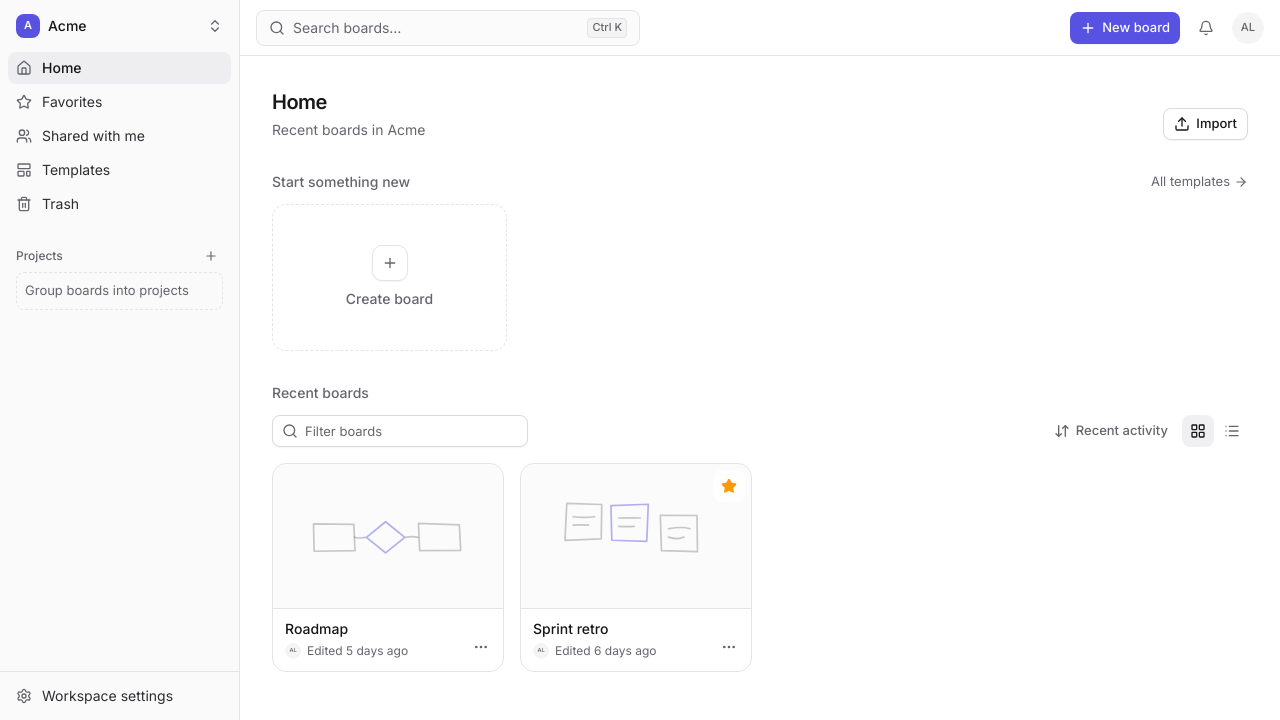
Scenario: dashboard board list › moves a board to the trash (DELETE /boards/:id) and duplicates boards
Step 1. Click the button with test id "board-card-menu" → (729, 647), box 713,631 -> 745,663
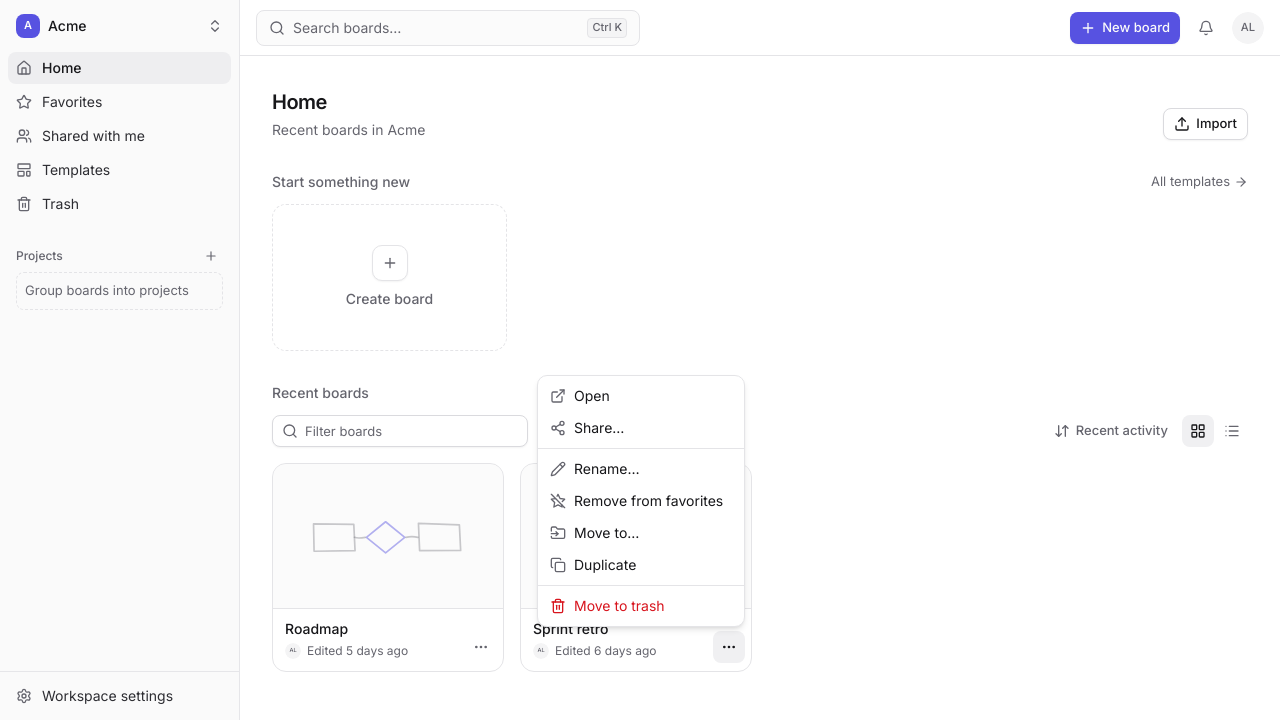
Step 2. Click the menu item with test id "board-menu-duplicate" → (593, 564), box 550,556 -> 636,573
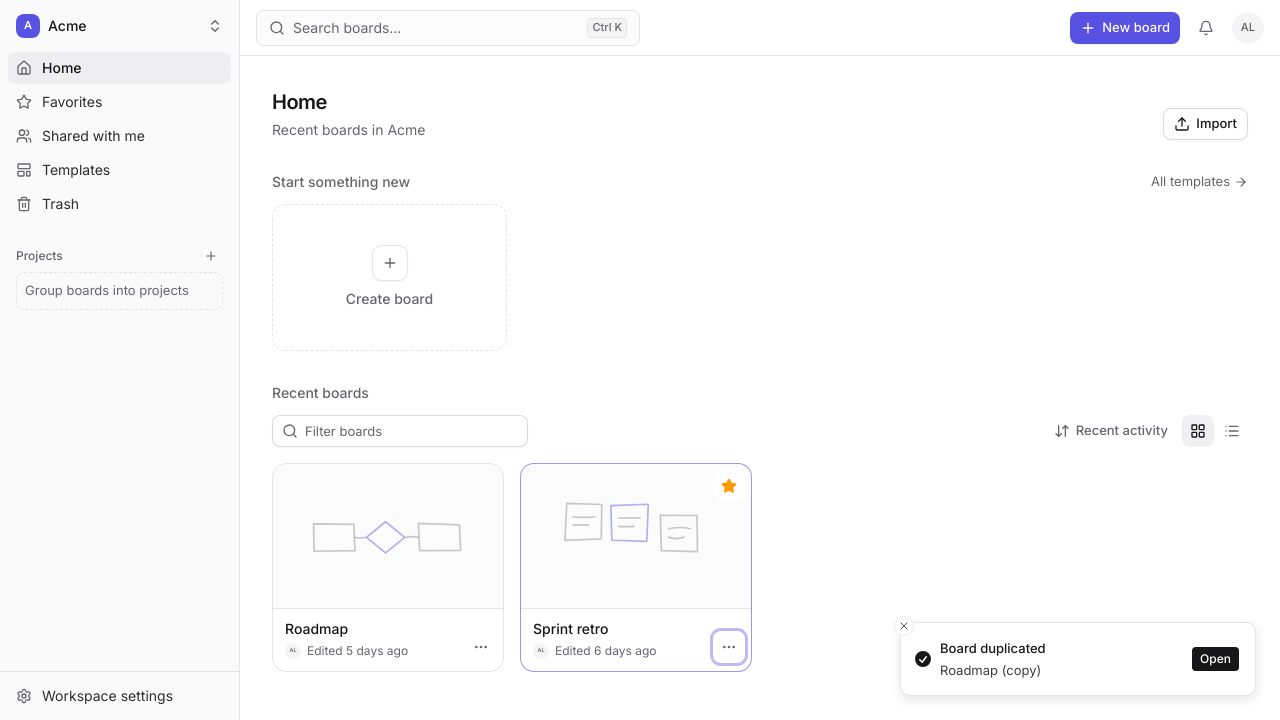
Step 3. Click the button with test id "board-card-menu" → (481, 647), box 465,631 -> 497,663
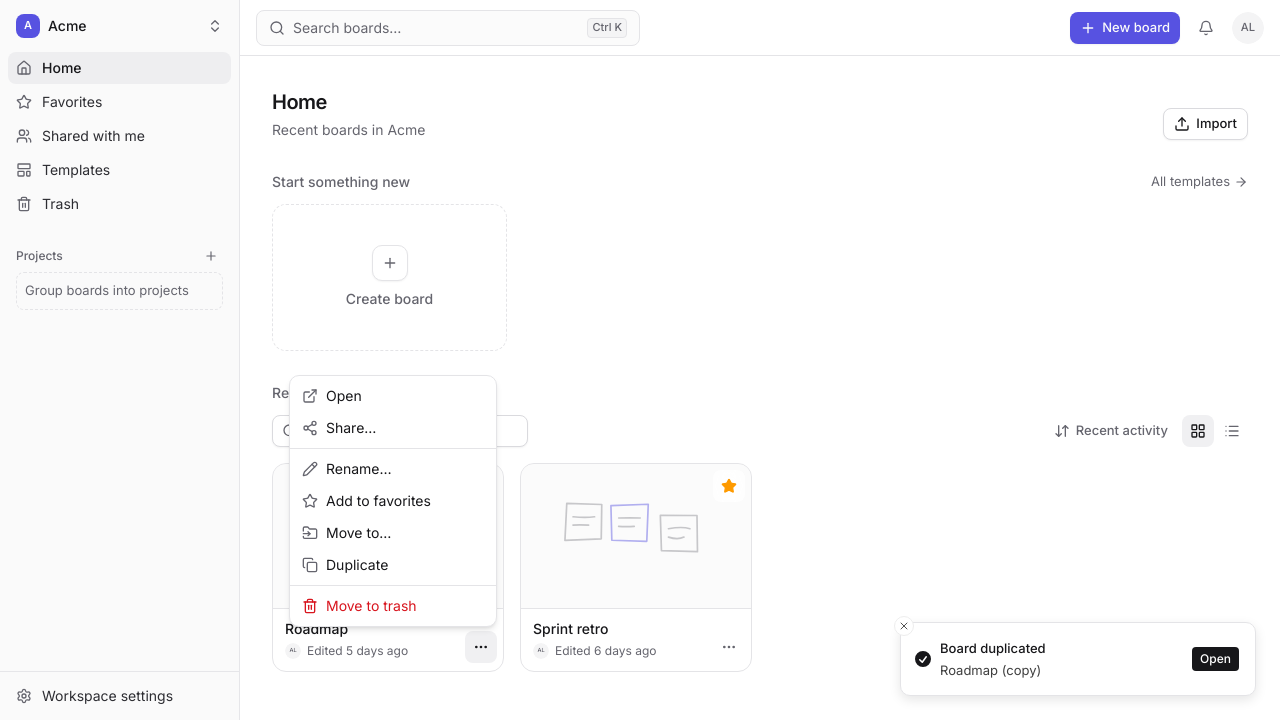
Step 4. Click the menu item with test id "board-menu-delete" → (359, 606), box 302,597 -> 417,614
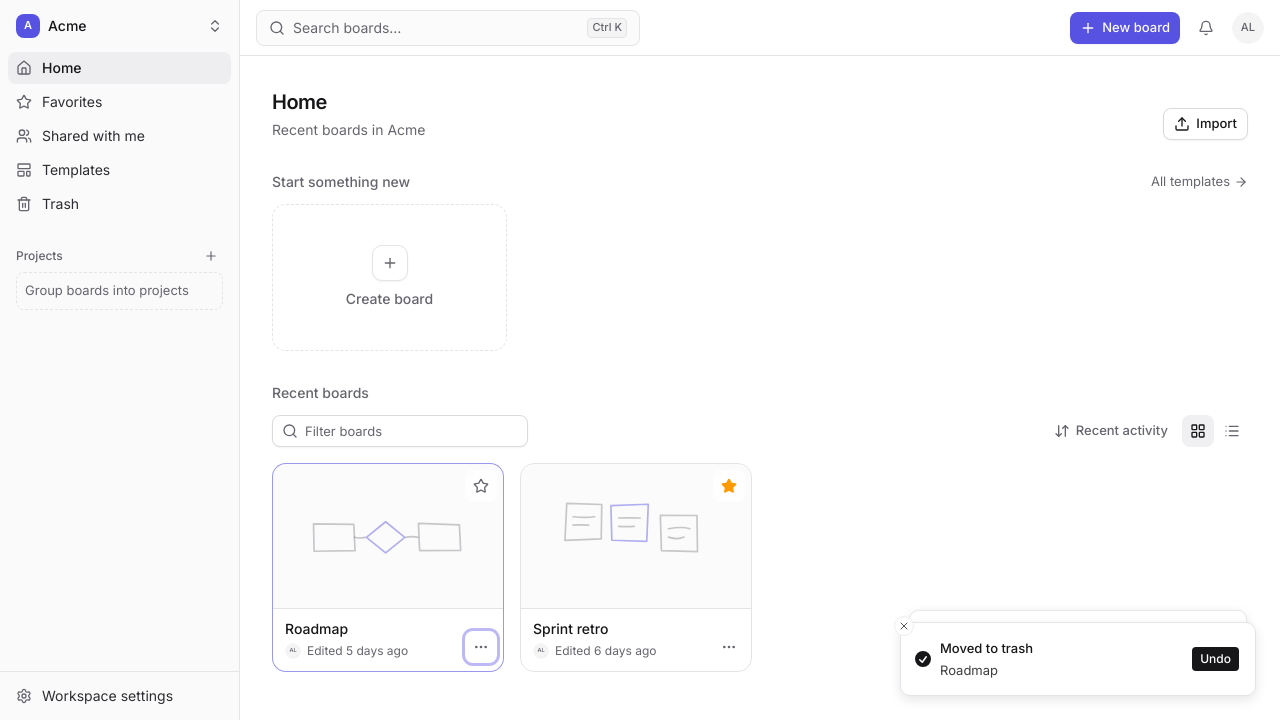
Now the text "Moved to trash" is shown, box 940,639 -> 1033,659
